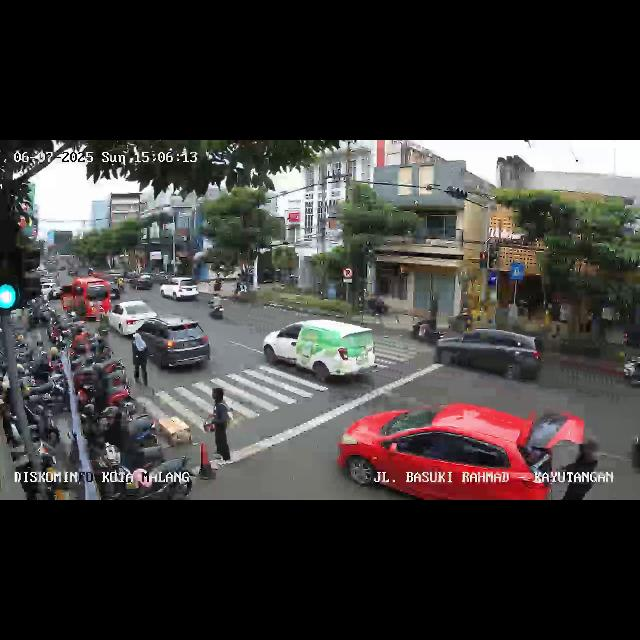car: (337, 402, 599, 500), (264, 318, 376, 392), (439, 326, 543, 386), (138, 318, 212, 376), (60, 278, 109, 320), (106, 300, 160, 338), (160, 276, 200, 304), (130, 274, 154, 292), (110, 280, 122, 304)
motorcycle: (614, 335, 640, 391), (412, 308, 438, 346), (208, 288, 228, 322)
person: (200, 384, 234, 474), (558, 438, 604, 499), (130, 325, 152, 393)
